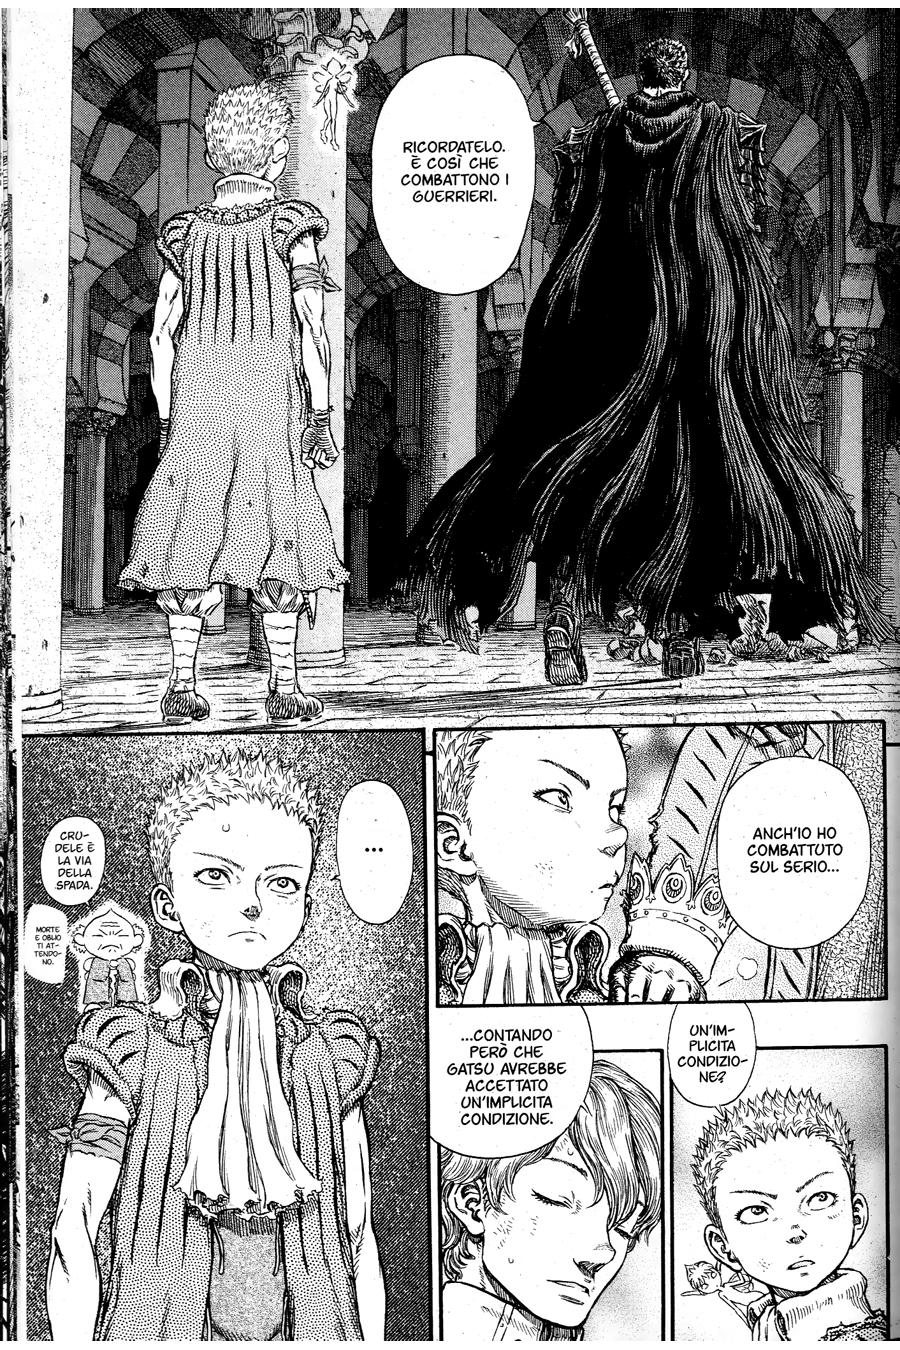Baloon: (371, 54, 534, 293), (718, 756, 875, 950), (436, 1009, 600, 1158), (336, 781, 414, 930), (665, 999, 763, 1115), (40, 817, 110, 905), (20, 907, 65, 987)
Vignetta: (63, 9, 900, 721), (20, 736, 432, 1340), (434, 726, 887, 999), (440, 1044, 665, 1350), (687, 1042, 885, 1342)
